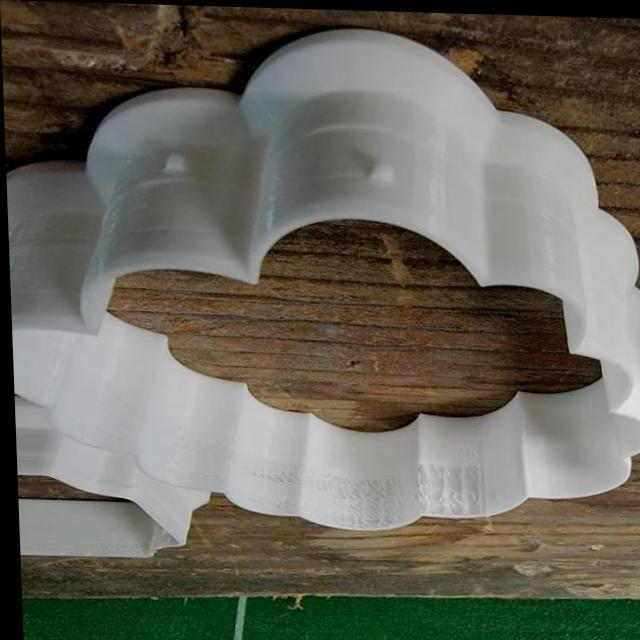zits: (158, 148, 192, 178), (364, 154, 393, 185)
